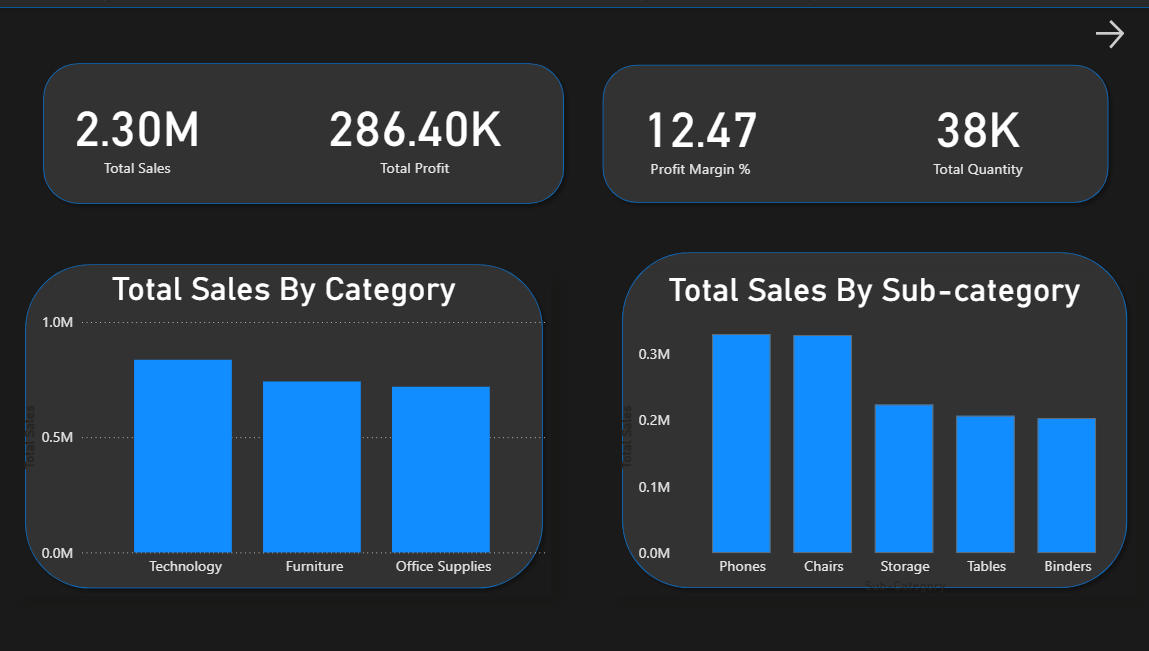

This screenshot's page, from the dashboard's own definition file:
{"tool":"powerbi","page":{"name":"Page 1","canvas":[1280,720],"ordinal":0},"visuals":[{"type":"shape","box":[0,0,1280.5,720.6],"z":0},{"type":"shape","box":[46.8,53.3,593.1,173.3],"z":500,"group":"g1"},{"type":"shape","box":[686.1,262,575.8,389],"z":625,"group":"g1"},{"type":"shape","box":[26.5,275,589.7,376],"z":750,"group":"g1"},{"type":"group","id":"g1","title":"Group 1","box":[26.5,53.3,1235.4,597.7],"z":1000},{"type":"shape","box":[663.6,55.5,576.5,170.6],"z":1000,"group":"g1"},{"type":"card","fields":{"Values":["Raw_cleaned.Total Sales"]},"box":[5.9,53.8,304.8,170.6],"z":2000},{"type":"card","fields":{"Values":["Raw_cleaned.Total Profit"]},"box":[310.7,53.8,308.1,170.6],"z":3000},{"type":"card","fields":{"Values":["Raw_cleaned.Total Quantity"]},"box":[933.6,55.5,306.4,169],"z":4000},{"type":"card","fields":{"Values":["Raw_cleaned.Profit Margin %"]},"box":[627.1,55.5,306.4,169],"z":5000},{"type":"clusteredColumnChart","title":"Total Sales By Category","fields":{"Category":["product_dim.Category"],"Y":["Raw_cleaned.Total Sales"]},"box":[26.5,289.9,589.7,361.1],"z":6000},{"type":"columnChart","title":"Total Sales By Sub-category","fields":{"Category":["product_dim.Sub-Category"],"Y":["Raw_cleaned.Total Sales"]},"box":[685.6,290.8,575.8,360.1],"z":7000},{"type":"actionButton","box":[1202.6,0,77.9,59.6],"z":8000}]}

Visuals, with their boxes in screenshot pixels (x1, y1, x2, y2), scaled from the page's 1280x720 canvas onto the 1149x651 screenshot:
shape: bbox(0, 0, 1148, 650)
shape: bbox(42, 48, 574, 205)
shape: bbox(616, 237, 1133, 589)
shape: bbox(24, 249, 553, 589)
"Group 1" group: bbox(24, 48, 1133, 589)
shape: bbox(596, 50, 1113, 204)
card - Raw_cleaned.Total Sales: bbox(5, 49, 279, 203)
card - Raw_cleaned.Total Profit: bbox(279, 49, 555, 203)
card - Raw_cleaned.Total Quantity: bbox(838, 50, 1113, 203)
card - Raw_cleaned.Profit Margin %: bbox(563, 50, 838, 203)
"Total Sales By Category" clusteredColumnChart: bbox(24, 262, 553, 589)
"Total Sales By Sub-category" columnChart: bbox(615, 263, 1132, 589)
actionButton: bbox(1080, 0, 1148, 54)
